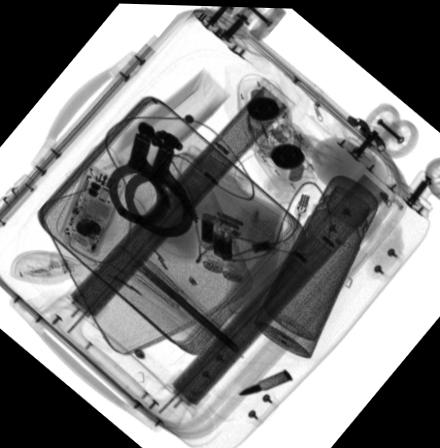Bullet: (236, 367, 294, 391)
HandCuffs: (106, 116, 201, 235)
